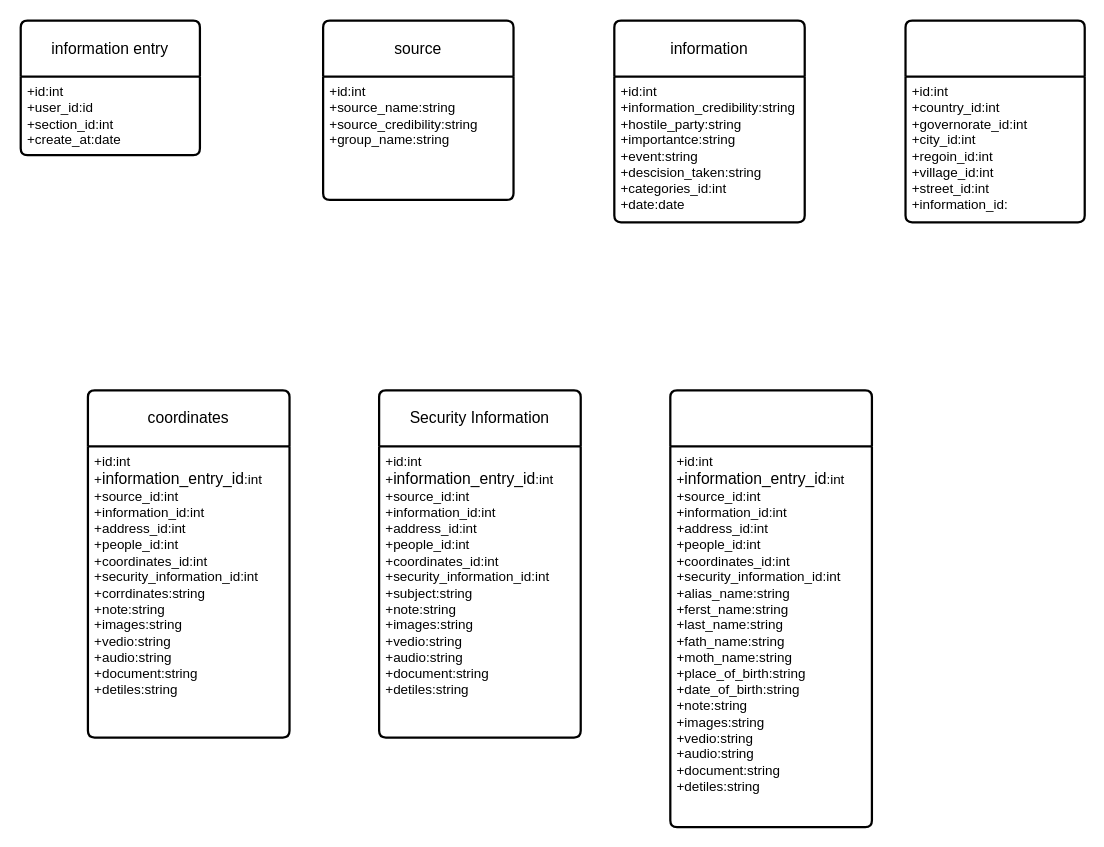
Image size: 1104x847. Some labels were removed from this diagram. Each missing label, with the box of its shape:
address: (904, 19, 1085, 223)
People Information: (669, 389, 872, 828)
